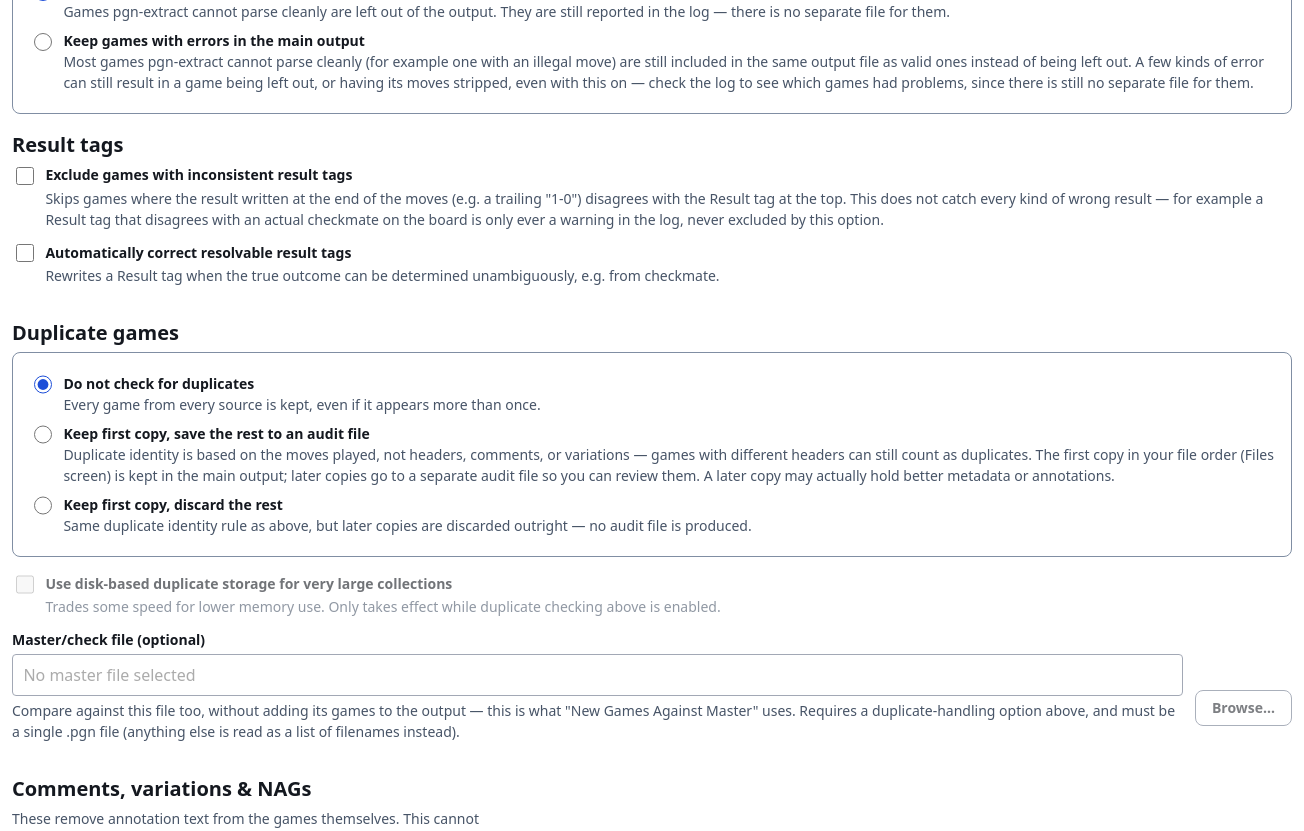
Test case: OperationsScreen › selecting "keep first, save an audit file" checks the publish-audit checkbox by default
This screenshot has width=1304, height=831.
(page scrolled)
Click the radio button labelled "Keep first copy, save the rest to an audit file" at x=43, y=435, box [34,425,52,444]
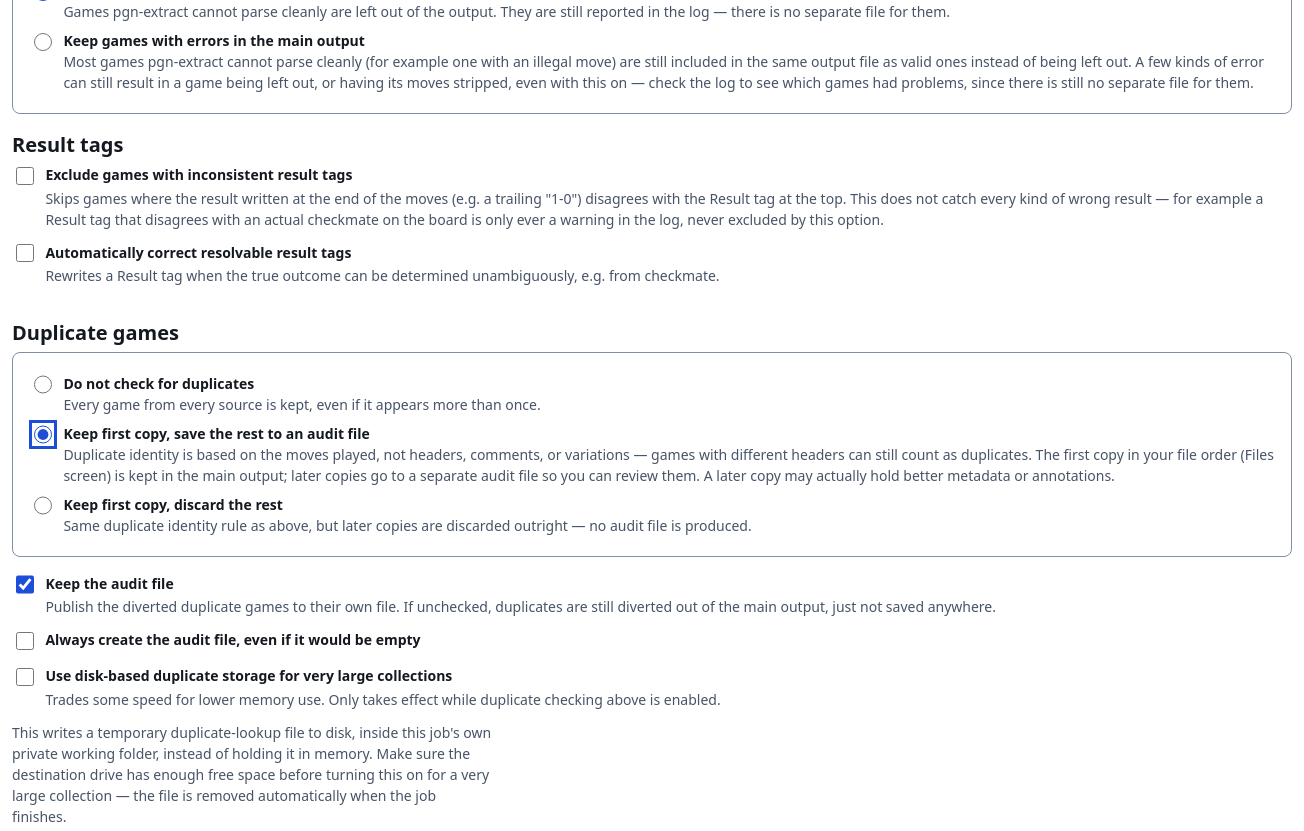
Check: the checkbox labelled "Keep the audit file" is checked, box [16,575,34,594]
